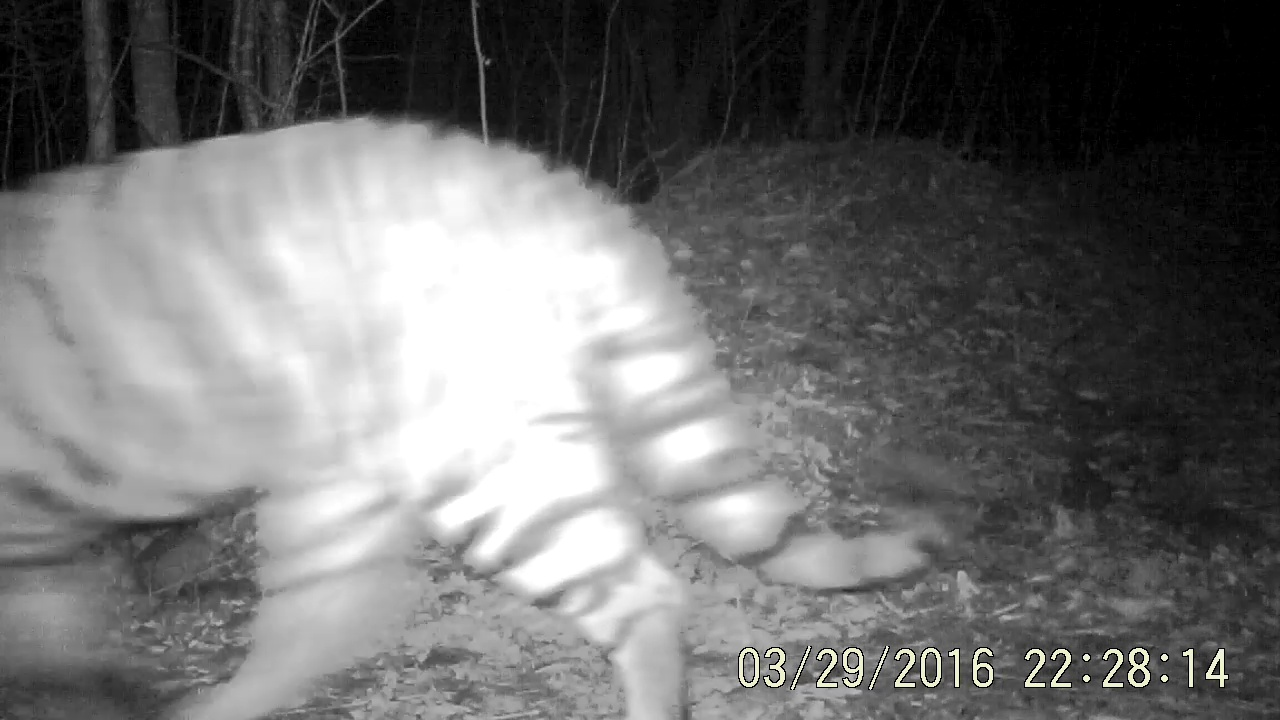Tiger: (6, 7, 1015, 720)
